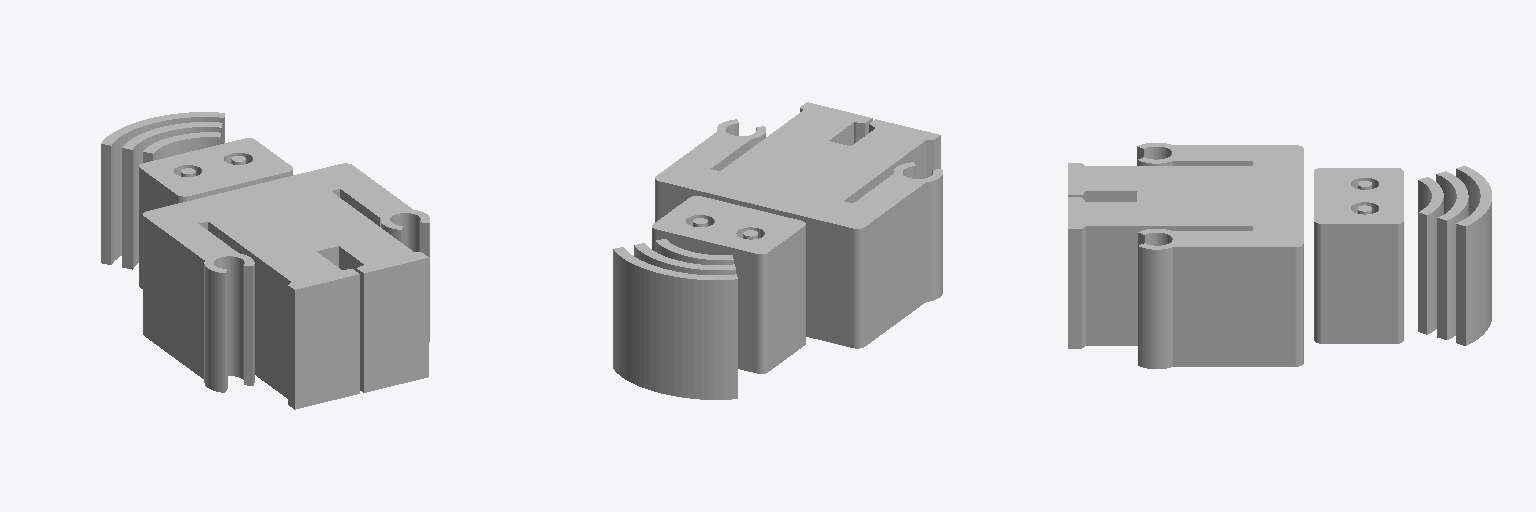
The model's file is test-ralph.obj.
The picture shows the model from 3 angles: view 1: azimuth 30°, elevation 25°; view 2: azimuth 150°, elevation 25°; view 3: azimuth 270°, elevation 25°; orthographic projection.
Visible parts, largest first — view 1: Curve.006, Curve.005, Curve.004, Curve, Curve.001; view 2: Curve.006, Curve.004, Curve.005, Curve, Curve.001; view 3: Curve.006, Curve.005, Curve.004, Curve, Curve.001.
Part boxes in pixels (x1,y1,x2,y2): Curve.006: (143,163,429,409); Curve.005: (139,138,292,288); Curve.004: (101,112,224,264); Curve: (122,122,222,269); Curve.001: (143,132,220,162); Curve.006: (655,102,942,348); Curve.004: (613,247,737,399); Curve.005: (652,196,805,373); Curve: (634,243,735,274); Curve.001: (655,239,733,264); Curve.006: (1068,143,1303,368); Curve.005: (1314,168,1403,343); Curve.004: (1456,166,1491,345); Curve: (1436,171,1468,339); Curve.001: (1418,177,1443,334).
Size of the model in its own units: 0.1153 by 0.06 by 0.193.